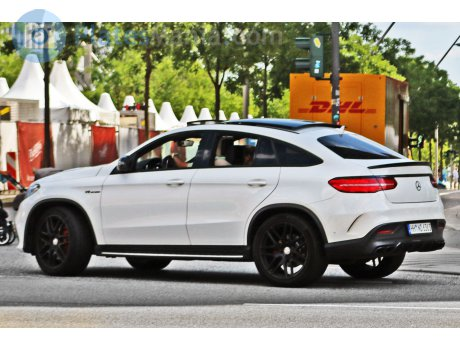License Plates: (405, 222, 437, 231)
